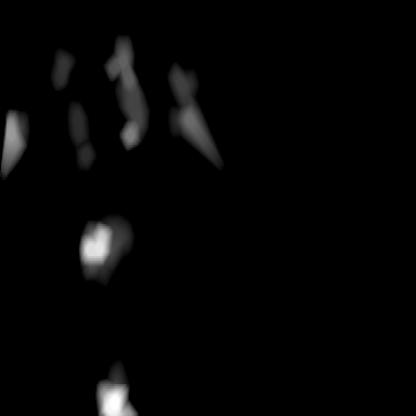fingers: (91, 370, 130, 414)
palm: (1, 35, 207, 172)
